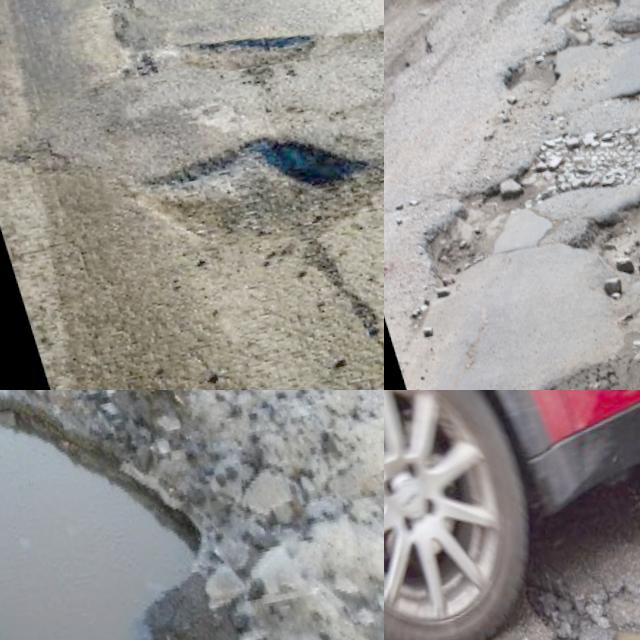Potholes: (88, 59, 384, 311), (0, 390, 264, 640), (135, 0, 383, 141), (432, 501, 640, 640), (384, 142, 555, 310), (457, 0, 640, 128), (533, 116, 640, 332), (384, 302, 640, 390), (384, 0, 499, 104)
